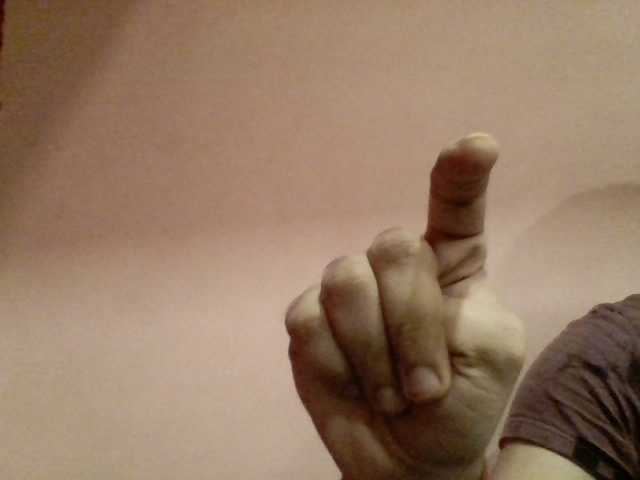x: (264, 126, 532, 479)
